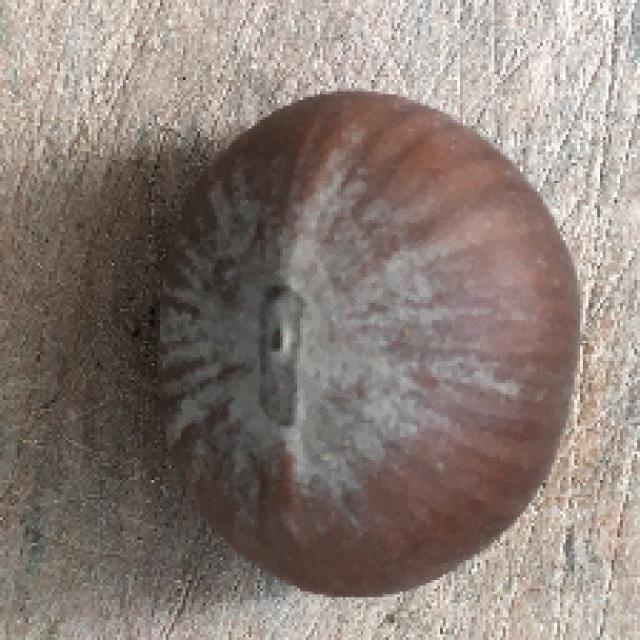DamagedHazelnut: (153, 86, 583, 595)
